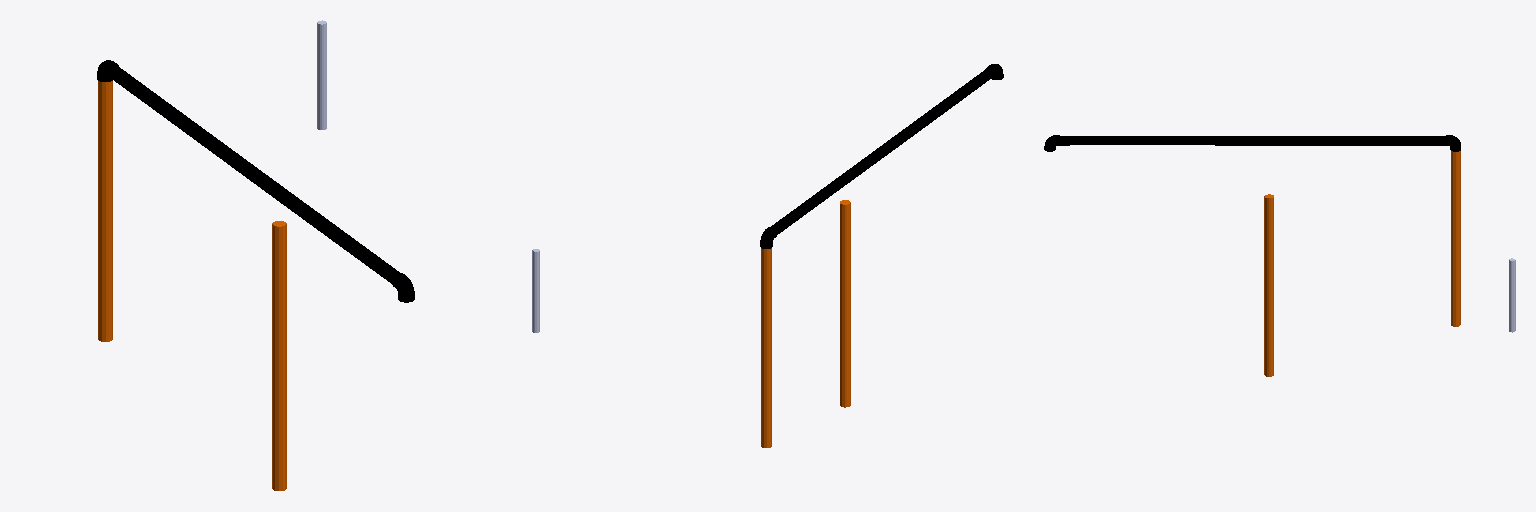
The robot description file, URDF, robot "Gate_URDF":
<?xml version="1.0" encoding="utf-8"?>
<!-- This URDF was automatically created by SolidWorks to URDF Exporter! Originally created by [author] ([email redacted]) 
     Commit Version: 1.5.0-0-g9aa0fdb  Build Version: 1.5.7004.21443
     For more information, please see http://wiki.ros.org/sw_urdf_exporter -->
<robot
  name="Gate_URDF">
  <link
    name="base_link">
    <inertial>
      <origin
        xyz="-1.11237294114636 -0.275643623117005 -2.86701492963669"
        rpy="0 0 0" />
      <mass
        value="14.1824601611886" />
      <inertia
        ixx="10.7617154383148"
        ixy="3.78914552899474E-09"
        ixz="-1.95652292256386E-12"
        iyy="10.7616370078245"
        iyz="-0.000384620075721185"
        izz="0.0107126620673073" />
    </inertial>
    <visual>
      <origin
        xyz="0 0 0"
        rpy="0 0 0" />
      <geometry>
        <mesh
          filename="package://Gate_URDF/meshes/base_link.STL" />
      </geometry>
      <material
        name="">
        <color
          rgba="0 0 0 1" />
      </material>
    </visual>
    <collision>
      <origin
        xyz="0 0 0"
        rpy="0 0 0" />
      <geometry>
        <mesh
          filename="package://Gate_URDF/meshes/base_link.STL" />
      </geometry>
    </collision>
  </link>
  <link
    name="left">
    <inertial>
      <origin
        xyz="4.44089209850063E-16 -0.762 4.44089209850063E-16"
        rpy="0 0 0" />
      <mass
        value="6.94999978330128" />
      <inertia
        ixx="1.34768073035475"
        ixy="1.45852749030322E-16"
        ixz="0"
        iyy="0.00504434459271899"
        iyz="3.98670251127624E-16"
        izz="1.34768073035475" />
    </inertial>
    <visual>
      <origin
        xyz="0 0 0"
        rpy="0 0 0" />
      <geometry>
        <mesh
          filename="package://Gate_URDF/meshes/left.STL" />
      </geometry>
      <material
        name="">
        <color
          rgba="0.909803921568627 0.443137254901961 0.0313725490196078 1" />
      </material>
    </visual>
    <collision>
      <origin
        xyz="0 0 0"
        rpy="0 0 0" />
      <geometry>
        <mesh
          filename="package://Gate_URDF/meshes/left.STL" />
      </geometry>
    </collision>
  </link>
  <joint
    name="left"
    type="continuous">
    <origin
      xyz="-1.1124 1.3 -0.32608"
      rpy="1.5708 0 -0.83378" />
    <parent
      link="base_link" />
    <child
      link="left" />
    <axis
      xyz="0 0 0" />
    <safety_controller
      k_velocity="0" />
  </joint>
  <link
    name="center">
    <inertial>
      <origin
        xyz="0 -0.3048 0"
        rpy="0 0 0" />
      <mass
        value="1.23555551703134" />
      <inertia
        ixx="0.038461570623003"
        ixy="2.43271810429554E-18"
        ixz="0"
        iyy="0.000398565498683969"
        iyz="2.15845533919502E-18"
        izz="0.038461570623003" />
    </inertial>
    <visual>
      <origin
        xyz="0 0 0"
        rpy="0 0 0" />
      <geometry>
        <mesh
          filename="package://Gate_URDF/meshes/center.STL" />
      </geometry>
      <material
        name="">
        <color
          rgba="0.792156862745098 0.819607843137255 0.933333333333333 1" />
      </material>
    </visual>
    <collision>
      <origin
        xyz="0 0 0"
        rpy="0 0 0" />
      <geometry>
        <mesh
          filename="package://Gate_URDF/meshes/center.STL" />
      </geometry>
    </collision>
  </link>
  <joint
    name="center"
    type="continuous">
    <origin
      xyz="-1.1124 2.5609 -0.28342"
      rpy="1.5708 0 -1.0018" />
    <parent
      link="base_link" />
    <child
      link="center" />
    <axis
      xyz="0 1 0" />
    <safety_controller
      k_velocity="0" />
  </joint>
  <link
    name="right">
    <inertial>
      <origin
        xyz="0 -0.762 0"
        rpy="0 0 0" />
      <mass
        value="6.94999978330128" />
      <inertia
        ixx="1.34768073035475"
        ixy="2.27007302809217E-16"
        ixz="0"
        iyy="0.00504434459271899"
        iyz="-5.90070389205153E-16"
        izz="1.34768073035475" />
    </inertial>
    <visual>
      <origin
        xyz="0 0 0"
        rpy="0 0 0" />
      <geometry>
        <mesh
          filename="package://Gate_URDF/meshes/right.STL" />
      </geometry>
      <material
        name="">
        <color
          rgba="0.909803921568627 0.443137254901961 0.0313725490196078 1" />
      </material>
    </visual>
    <collision>
      <origin
        xyz="0 0 0"
        rpy="0 0 0" />
      <geometry>
        <mesh
          filename="package://Gate_URDF/meshes/right.STL" />
      </geometry>
    </collision>
  </link>
  <joint
    name="right"
    type="continuous">
    <origin
      xyz="-1.11237292668479 4.44044406487749 -0.326212805743868"
      rpy="1.5707963267949 0 2.12026425889413" />
    <parent
      link="base_link" />
    <child
      link="right" />
    <axis
      xyz="0 1 0" />
    <safety_controller
      k_velocity="0" />
  </joint>
</robot>

--- What the picture shows (computed from the rendered views, not written in the file) ---
Views: 3 orthographic renders of the robot side by side, from view 1: azimuth 30°, elevation 25°; view 2: azimuth 150°, elevation 25°; view 3: azimuth 270°, elevation 25°.
Robot: Gate_URDF — 4 links, 3 joints (3 continuous); root link base_link; default pose: every joint at zero.
Visible links, largest first — view 1: base_link, left, right, center; view 2: base_link, left, right, center; view 3: base_link, left, right.
Boxes of the visible links, x1,y1,x2,y2 form: base_link: (97, 60, 414, 302); left: (272, 221, 286, 490); right: (98, 81, 112, 341); center: (317, 20, 326, 129); base_link: (760, 64, 1003, 248); left: (840, 200, 850, 407); right: (761, 248, 771, 447); center: (532, 249, 539, 332); base_link: (1044, 135, 1460, 151); left: (1264, 194, 1273, 376); right: (1451, 151, 1460, 326).
Bounding box of the posed robot: 1.63 × 3.65 × 1.94 m (x, y, z).
4 mesh visuals loaded from 4 distinct referenced files (4 binary STL).